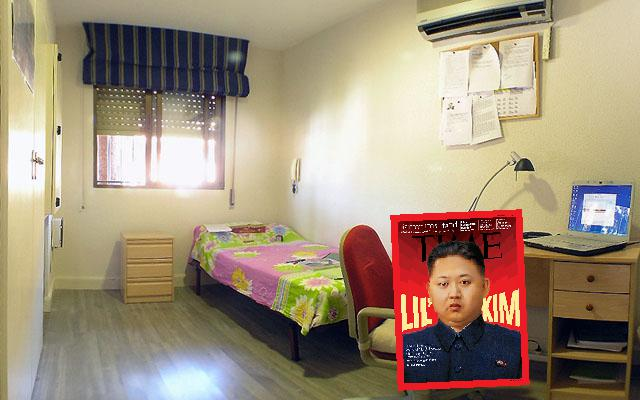times: (386, 207, 531, 392)
